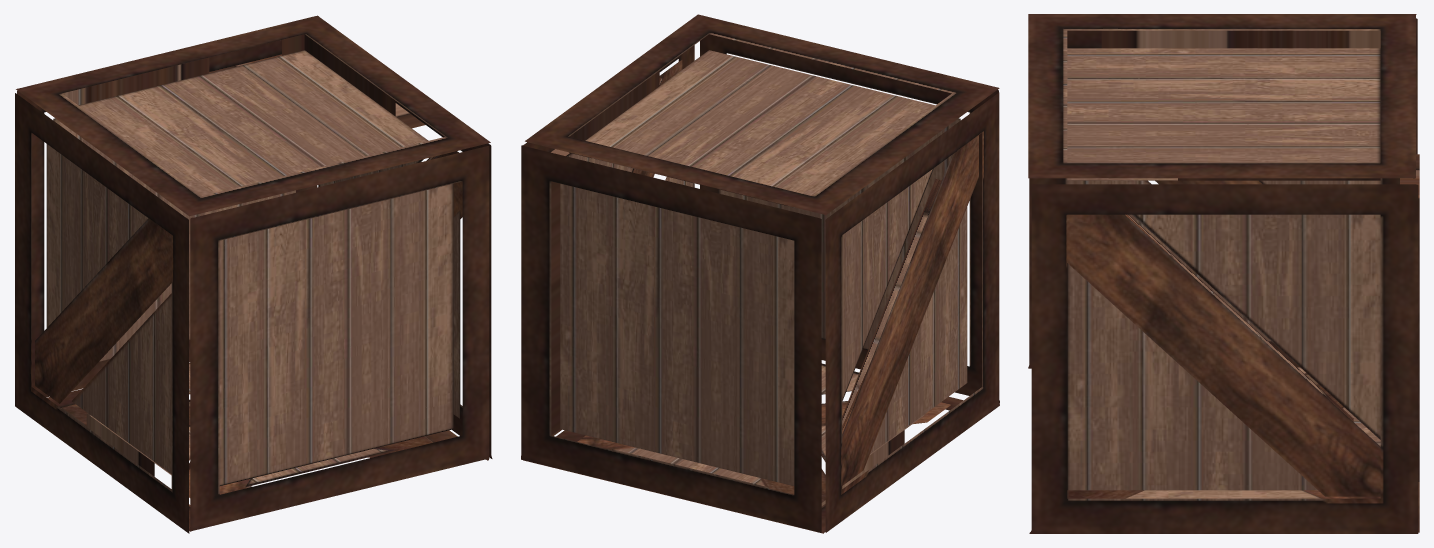
File: simple-crate.fbx
3 views of the same model, side by side, from view 1: azimuth 30°, elevation 25°; view 2: azimuth 150°, elevation 25°; view 3: azimuth 270°, elevation 25° (orthographic). The views are drawn at different scales.
Parts seen in each view (by area): view 1: Box; view 2: Box; view 3: Box.
Part boxes in pixels (x1,y1,x2,y2): Box: [15, 15, 492, 533]; Box: [521, 14, 999, 533]; Box: [1028, 14, 1419, 533].
Bounding box in the file's own units: 100 × 100 × 100.
Materials: 1 (1 with a texture image).
